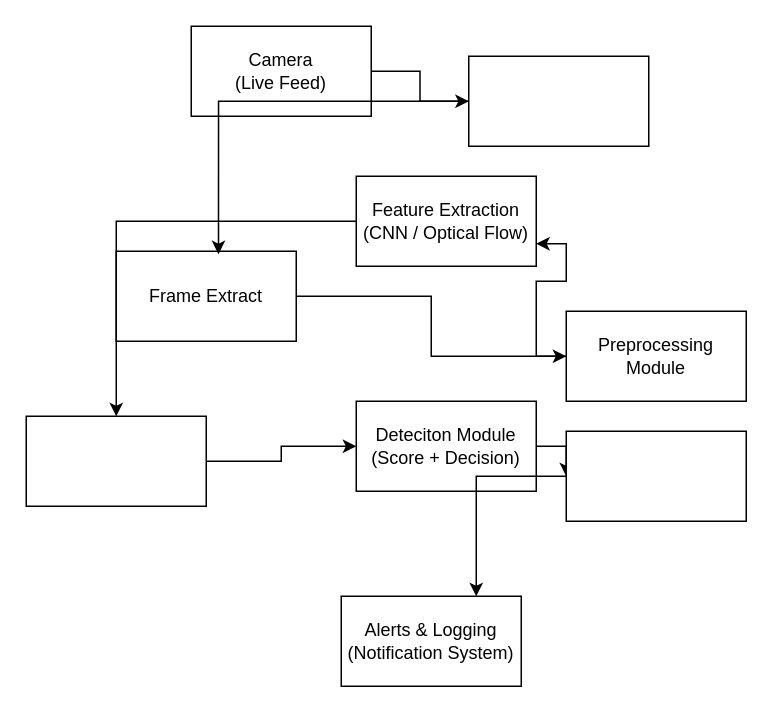
Some shapes in this 773 by 713 pixel diagram are drawn without their labels. Here are the shapes that lost their labels. From the top down, the centre of each, then its label:
At point (558, 100): "Video Data".
At point (115, 460): "AI Model (ML/DL)".
At point (655, 475): "Event Type Mapping (Violence / Panic / Intrusion / Accident)".
